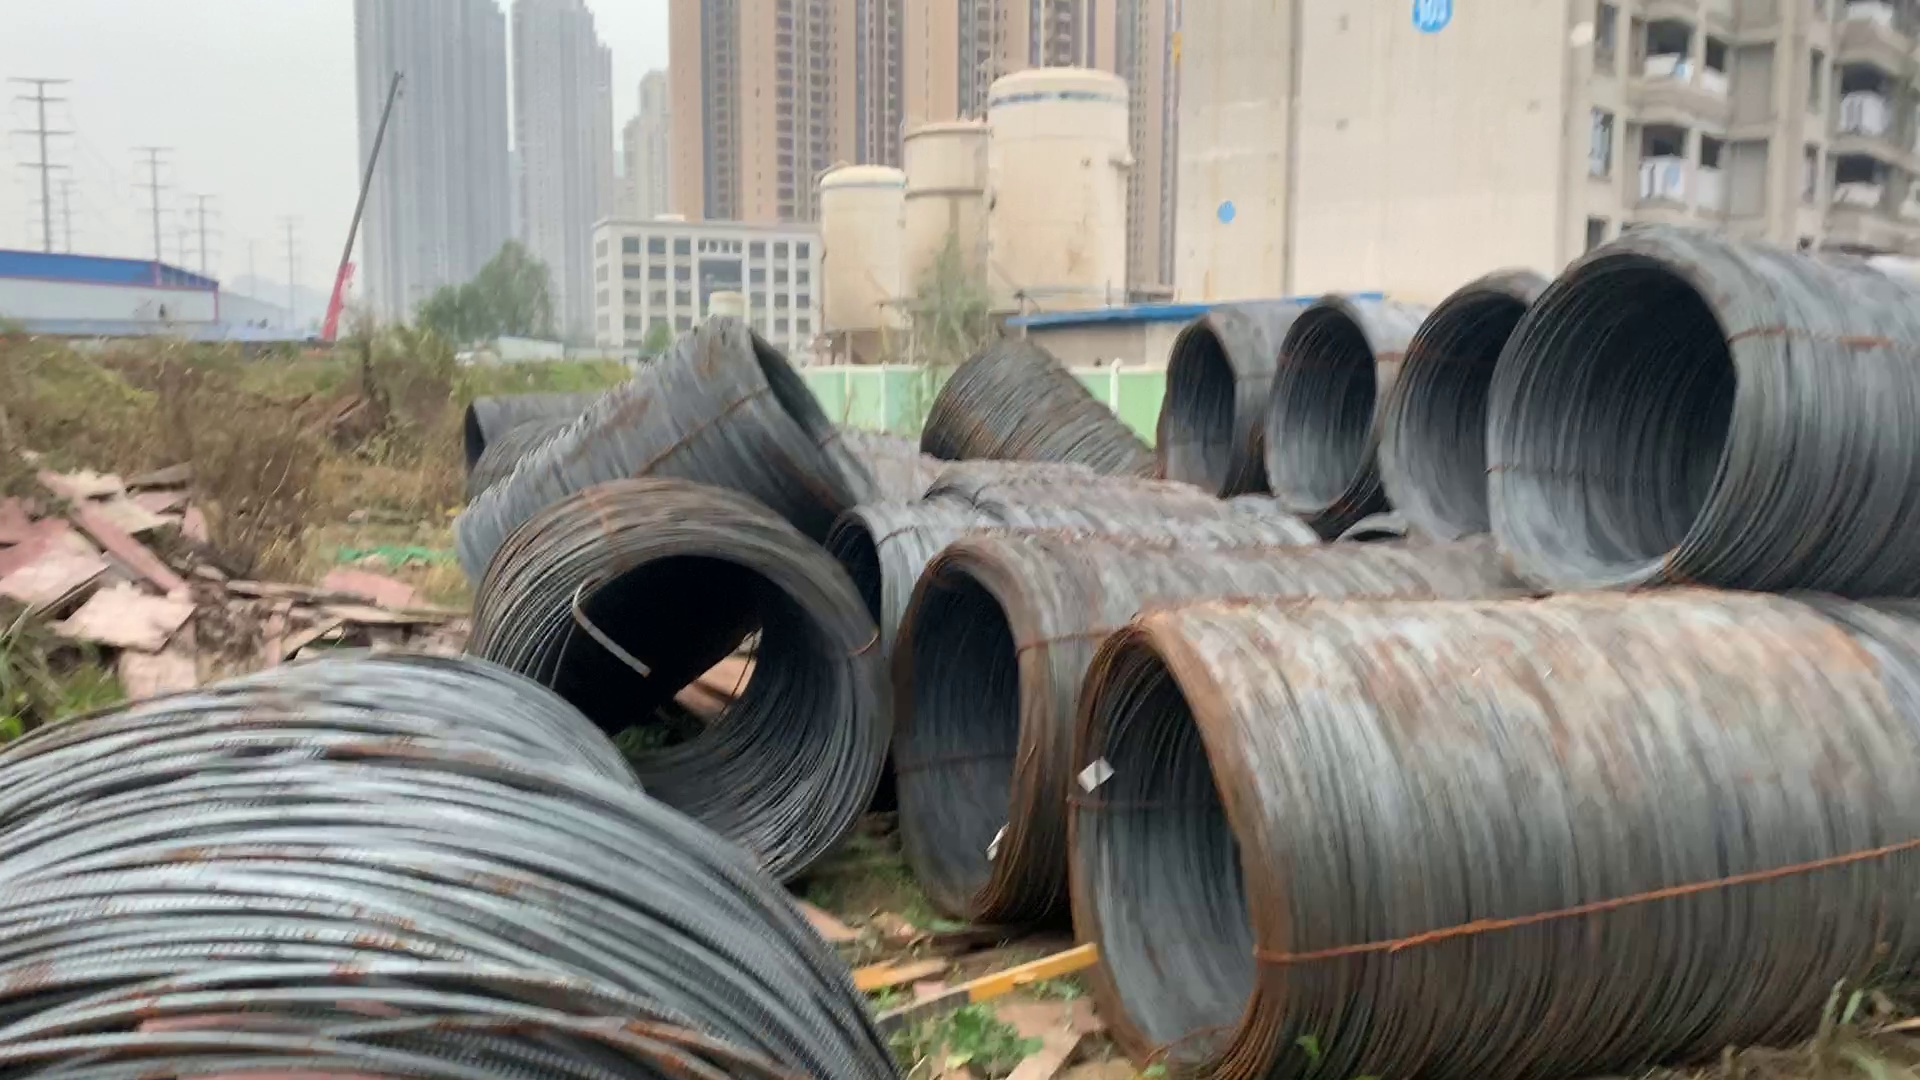coil: (504, 527, 882, 887), (1058, 624, 1276, 1079), (1484, 241, 1741, 603), (877, 531, 1048, 932), (1379, 287, 1540, 554), (715, 316, 882, 524), (1257, 299, 1390, 518), (1160, 318, 1261, 491), (454, 404, 493, 485)
